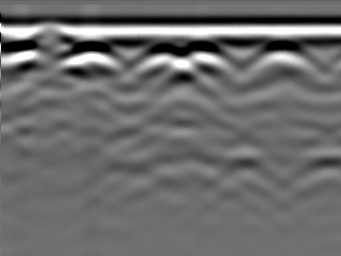pipe: (28, 26, 75, 42)
steel: (259, 43, 308, 73), (69, 43, 117, 73), (189, 45, 221, 73), (145, 43, 175, 71)
